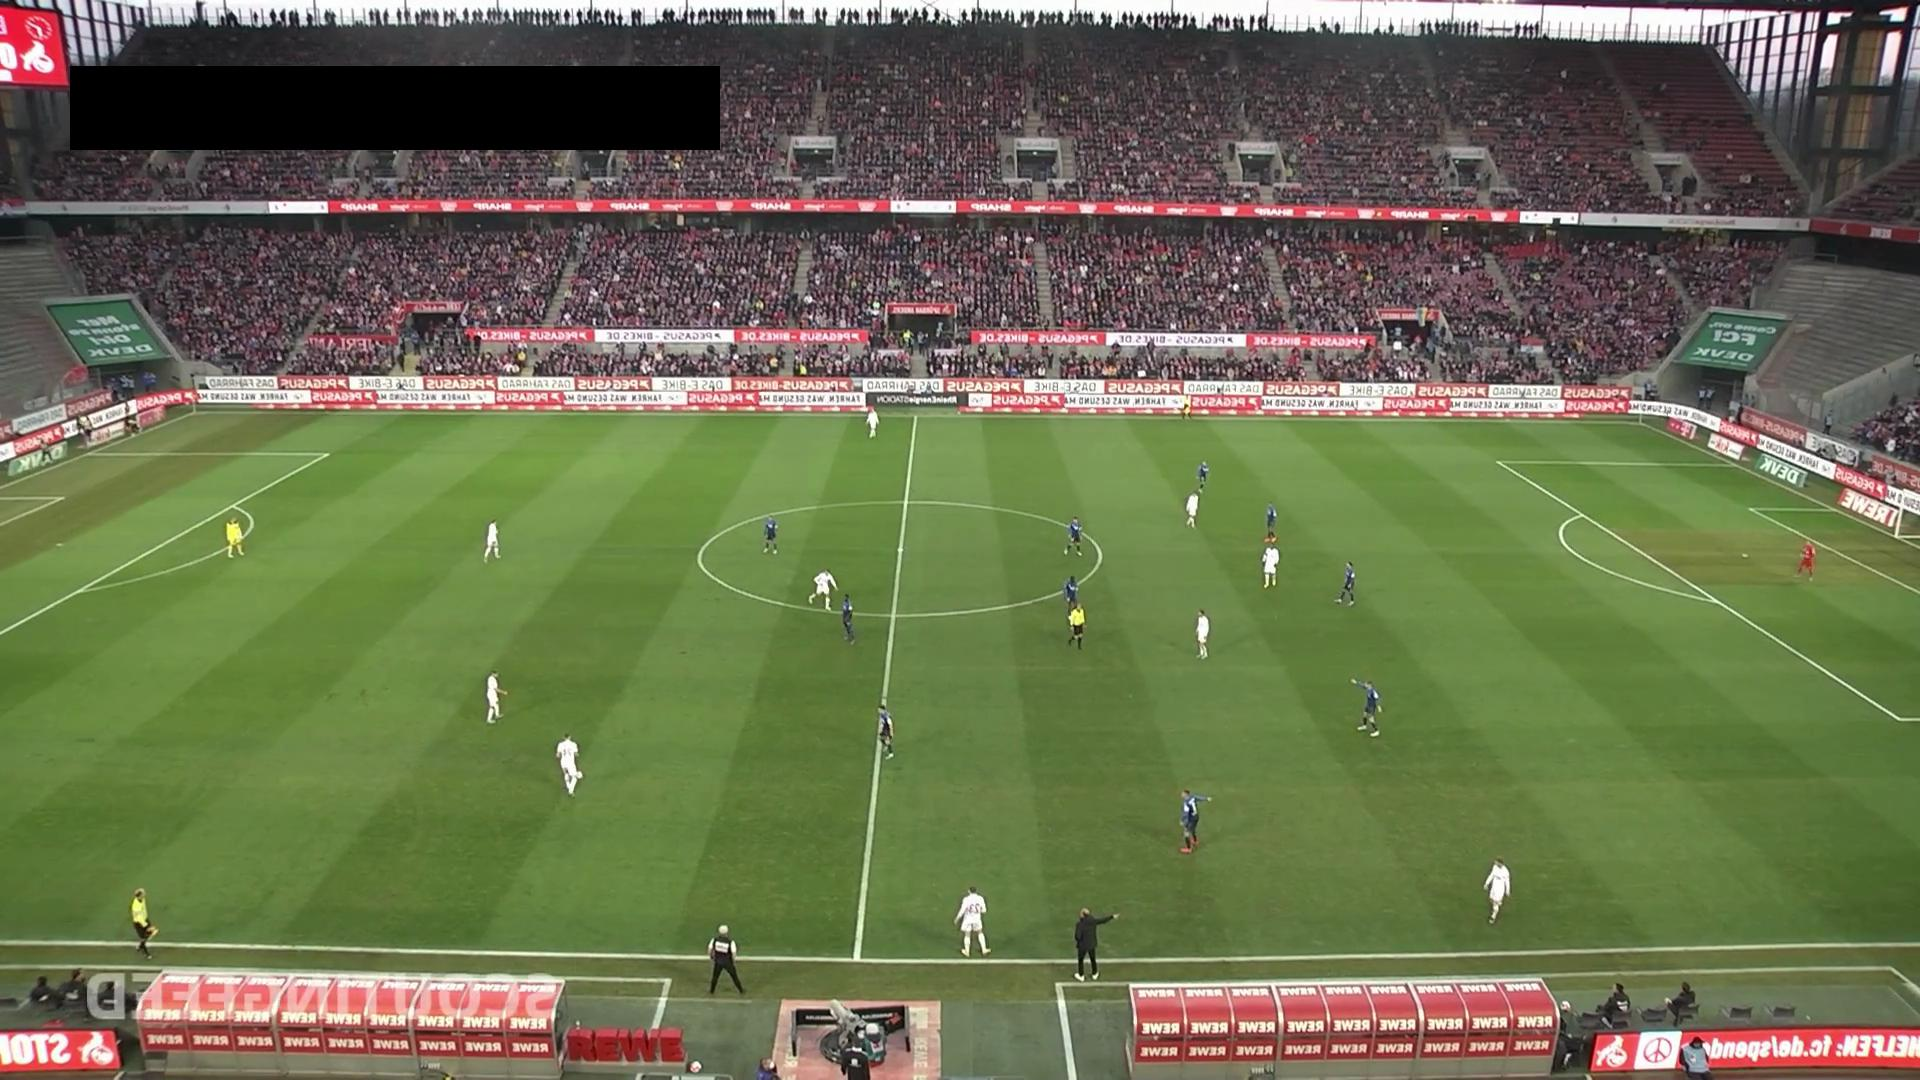ball: (575, 771, 584, 780)
goalkeeper: (225, 515, 245, 558), (1795, 542, 1816, 581)
player: (954, 884, 992, 957), (1483, 856, 1511, 925), (1351, 677, 1383, 736), (1179, 787, 1207, 853), (556, 731, 583, 796), (806, 568, 838, 613), (485, 671, 509, 723), (876, 701, 895, 759), (1261, 537, 1280, 589), (1336, 561, 1356, 605), (483, 519, 501, 565), (841, 592, 856, 644), (1195, 608, 1210, 659), (1065, 516, 1083, 557), (1063, 574, 1080, 617), (1184, 490, 1201, 529), (763, 516, 778, 555), (1264, 501, 1277, 540), (865, 405, 880, 438), (1196, 460, 1209, 491)
referee: (131, 887, 158, 959), (1067, 600, 1086, 650), (1181, 394, 1193, 421)
